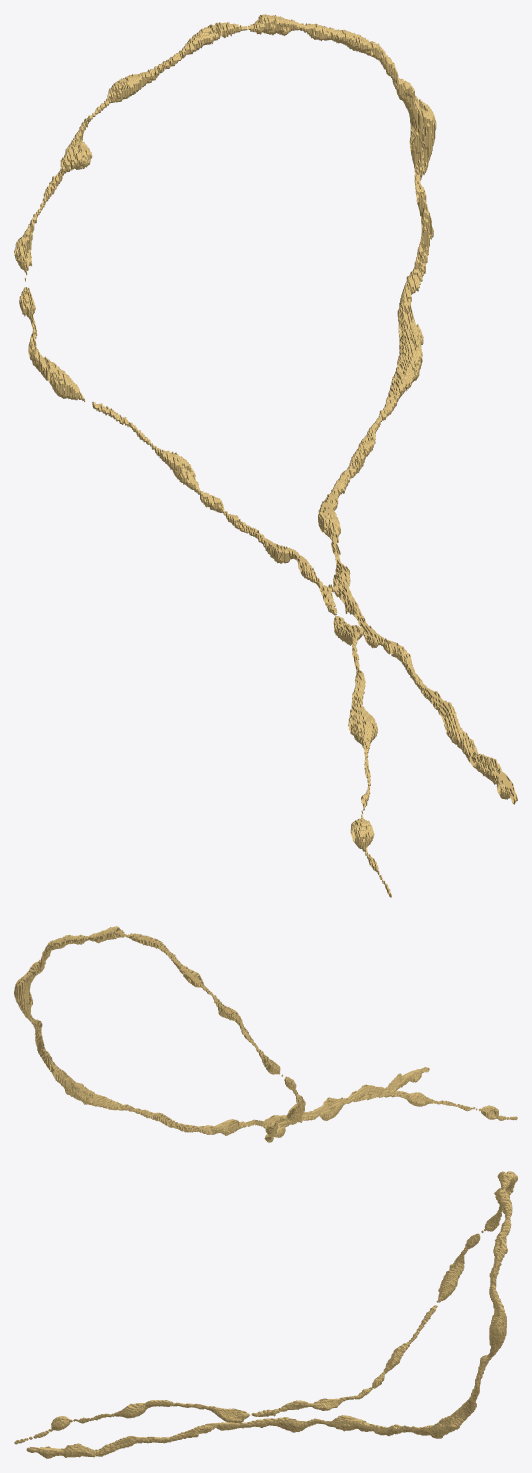
The model's file is SVV_AVKR.gltf.
The picture shows the model from 3 angles, top to bottom: view 1: azimuth 30°, elevation 25°; view 2: azimuth 150°, elevation 25°; view 3: azimuth 270°, elevation 25°; orthographic projection. The views are drawn at different scales.
Visible parts, largest first — view 1: AVKR; view 2: AVKR; view 3: AVKR.
Boxes of the visible parts, bbox=[...] form: AVKR: bbox=[14, 14, 517, 897]; AVKR: bbox=[14, 926, 517, 1142]; AVKR: bbox=[14, 1171, 517, 1458].
Size of the model in its own units: 141127 by 164851 by 225870.
